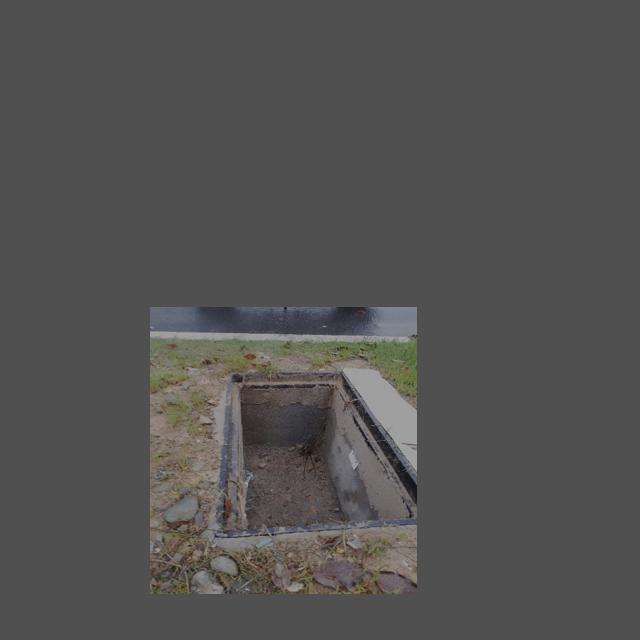lose: (219, 365, 417, 530)
